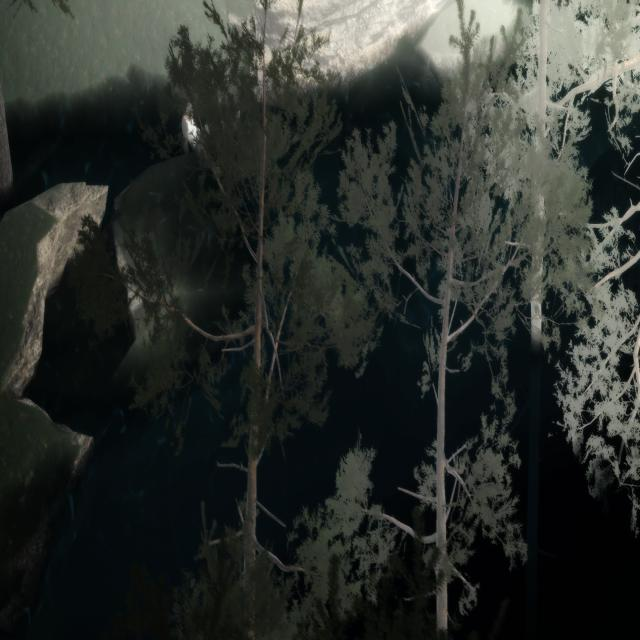Human: (176, 96, 246, 174)
